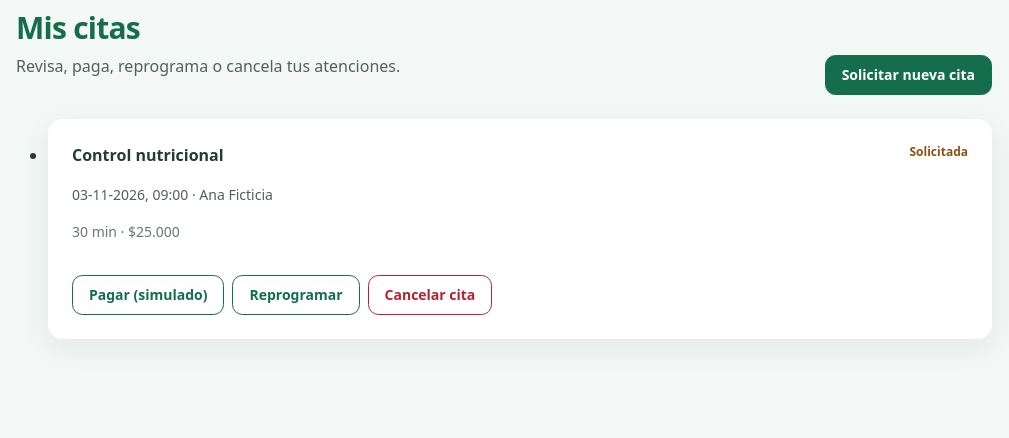
Mis citas del paciente › cancela una cita activa y recarga el listado
What coordinates should you click on to do the following:
click the button "Cancelar cita"
I would click on:
 (430, 295)
Its box is top-left (368, 275), bottom-right (492, 315).
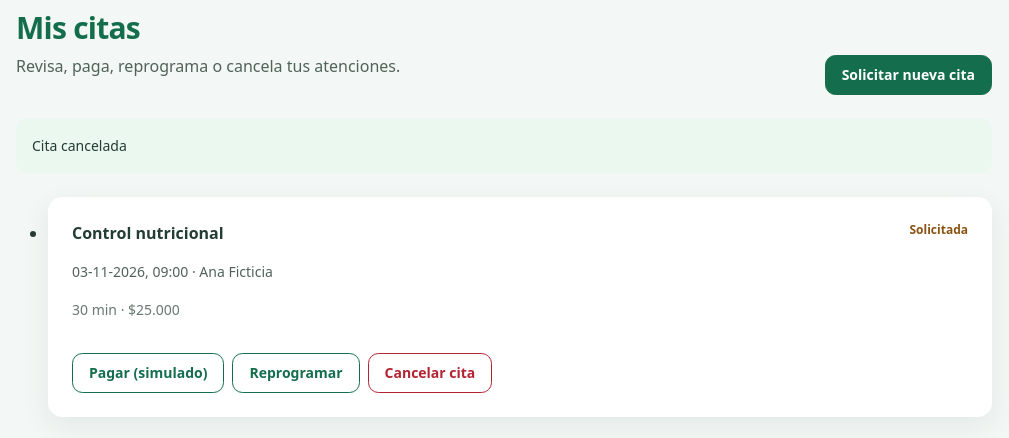
Expected: the text "Cita cancelada" is shown, top-left (16, 119), bottom-right (992, 173)
